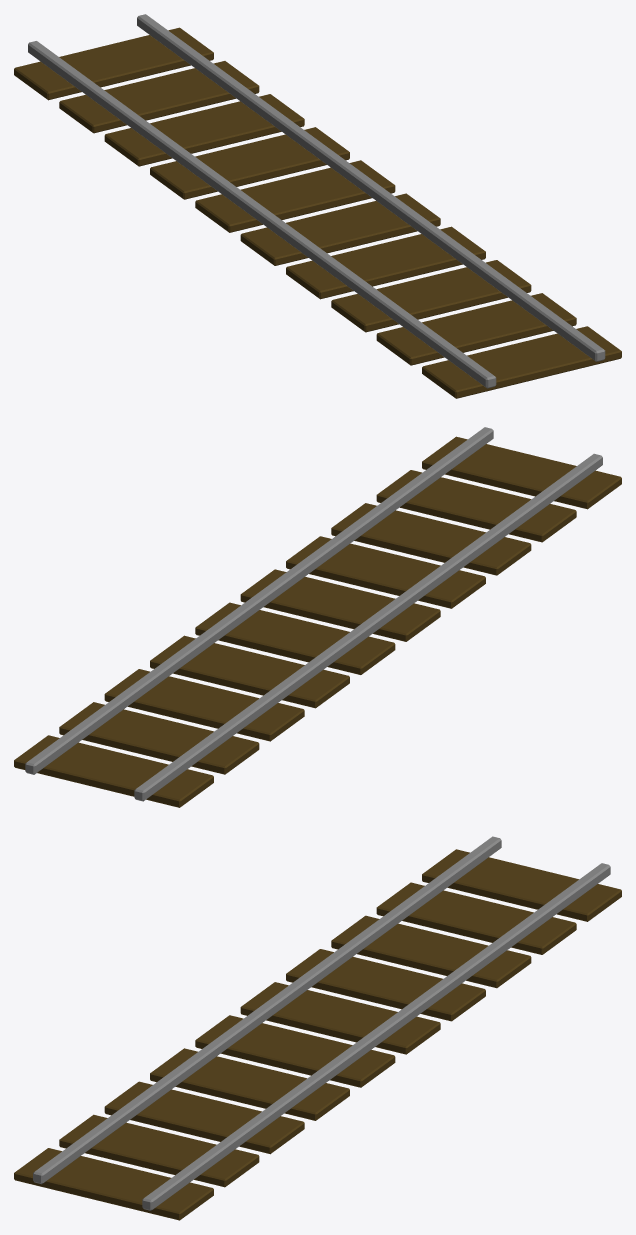
Rendered from rails_straight.fbx.
3 views of the same model, one above another, from view 1: azimuth 30°, elevation 25°; view 2: azimuth 150°, elevation 25°; view 3: azimuth 330°, elevation 25° (orthographic).
Parts seen in each view (by area): view 1: prop_rails_straight; view 2: prop_rails_straight; view 3: prop_rails_straight.
Boxes of the visible parts, box(x1,y1,x2,y2) form: prop_rails_straight: box(14, 14, 621, 398); prop_rails_straight: box(14, 427, 621, 807); prop_rails_straight: box(14, 836, 621, 1220).
Size of the model in its own units: 112 by 12.29 by 533.
